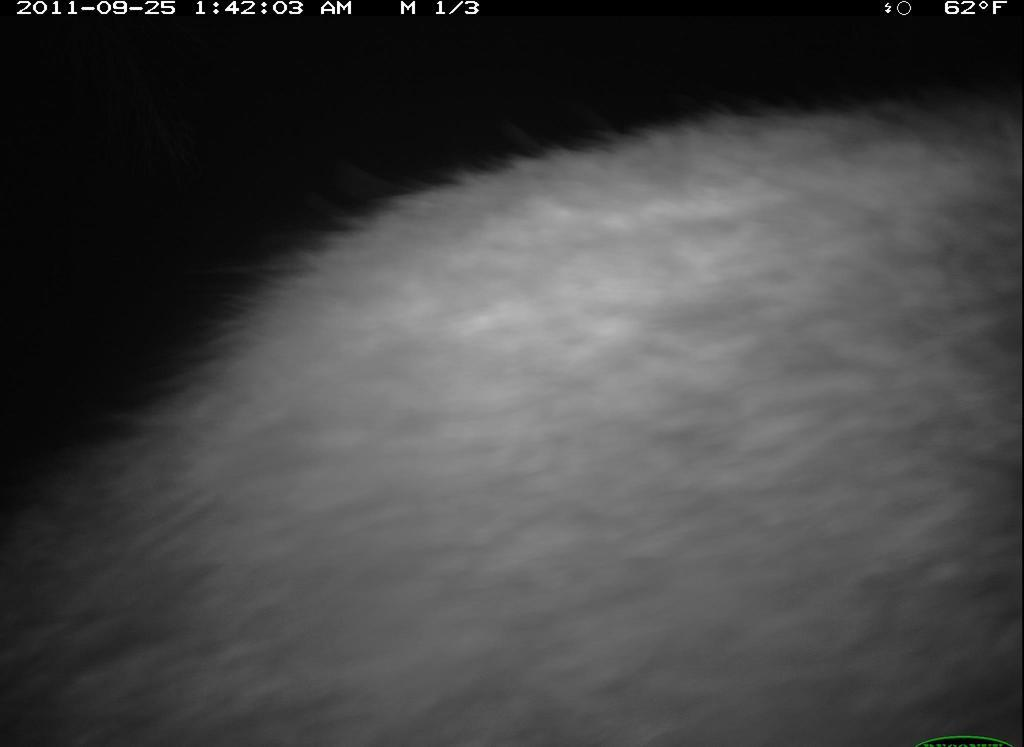raccoon: (71, 109, 1016, 740)
